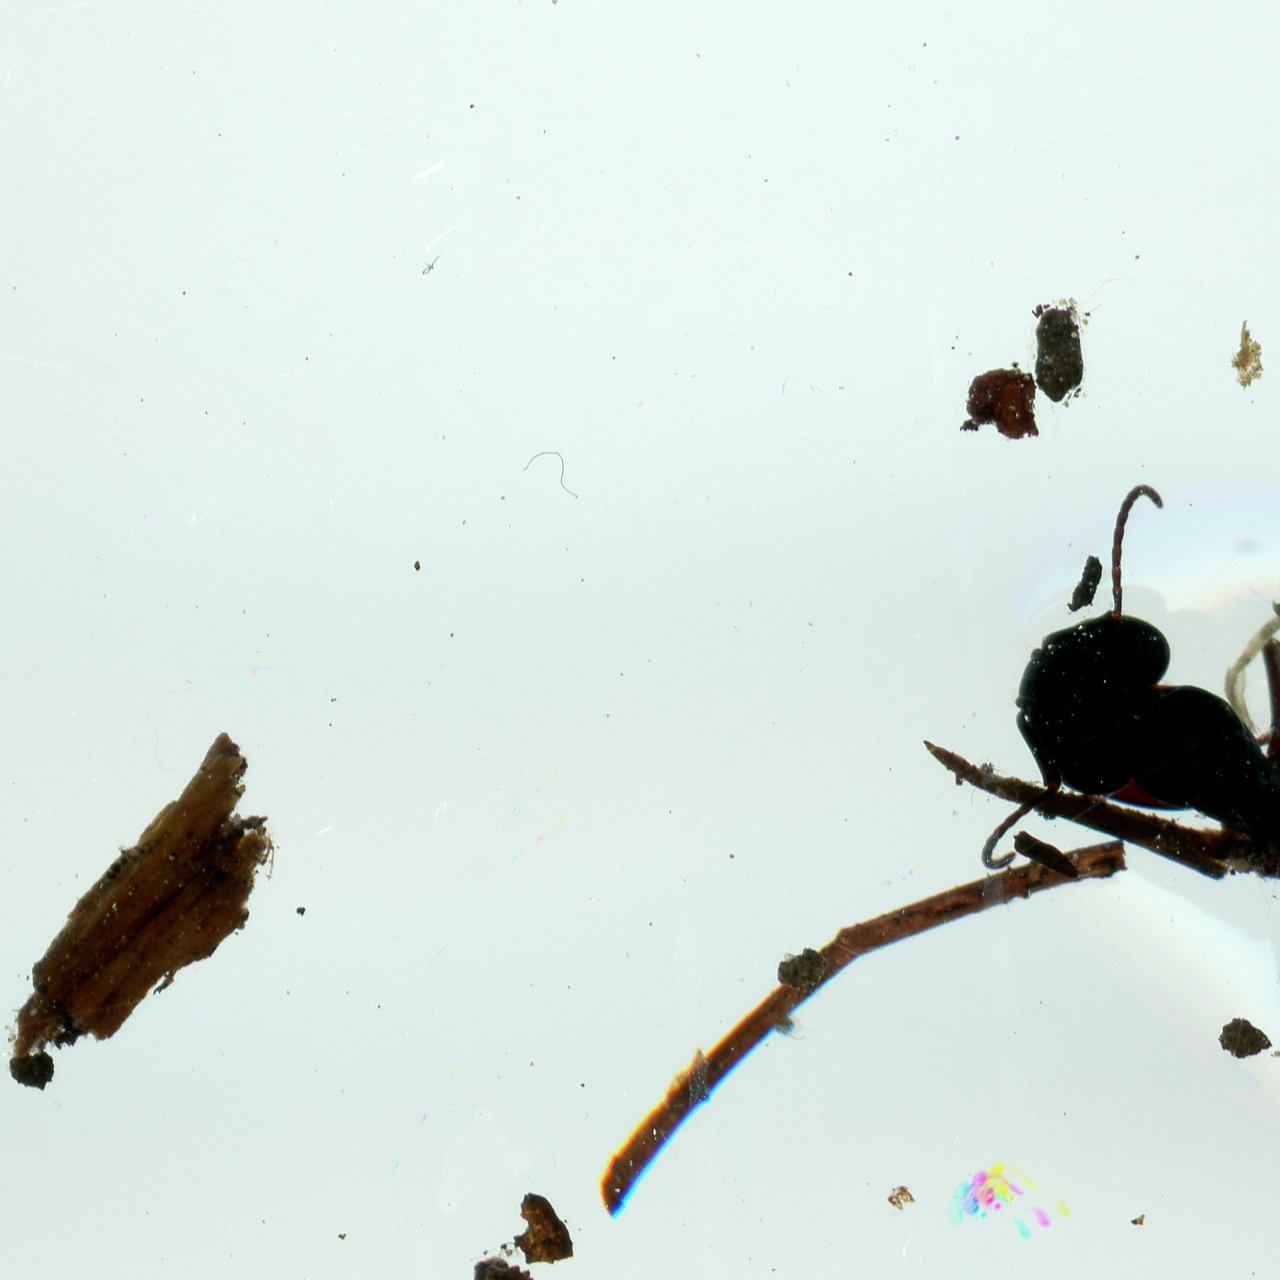arthropod: (917, 443, 1280, 1120)
